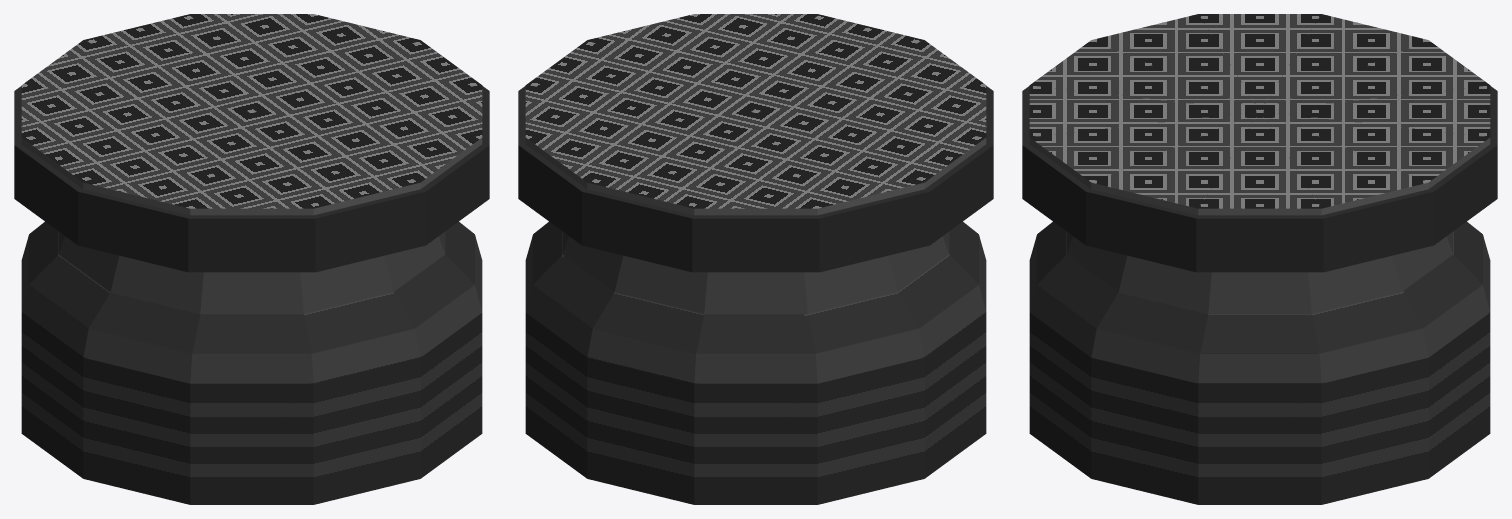
The model's file is EscapeShip engine only.gltf.
The picture shows the model from 3 angles, left to right: view 1: azimuth 30°, elevation 25°; view 2: azimuth 150°, elevation 25°; view 3: azimuth 270°, elevation 25°; orthographic projection.
Visible parts, largest first — view 1: floor; view 2: floor; view 3: floor.
Boxes of the visible parts, <box> form: floor: <box>14,14,489,504</box>; floor: <box>518,14,993,504</box>; floor: <box>1022,14,1497,504</box>.
Size of the model in its own units: 4 by 2.75 by 4.
Materials: 2 (2 with a texture image).
